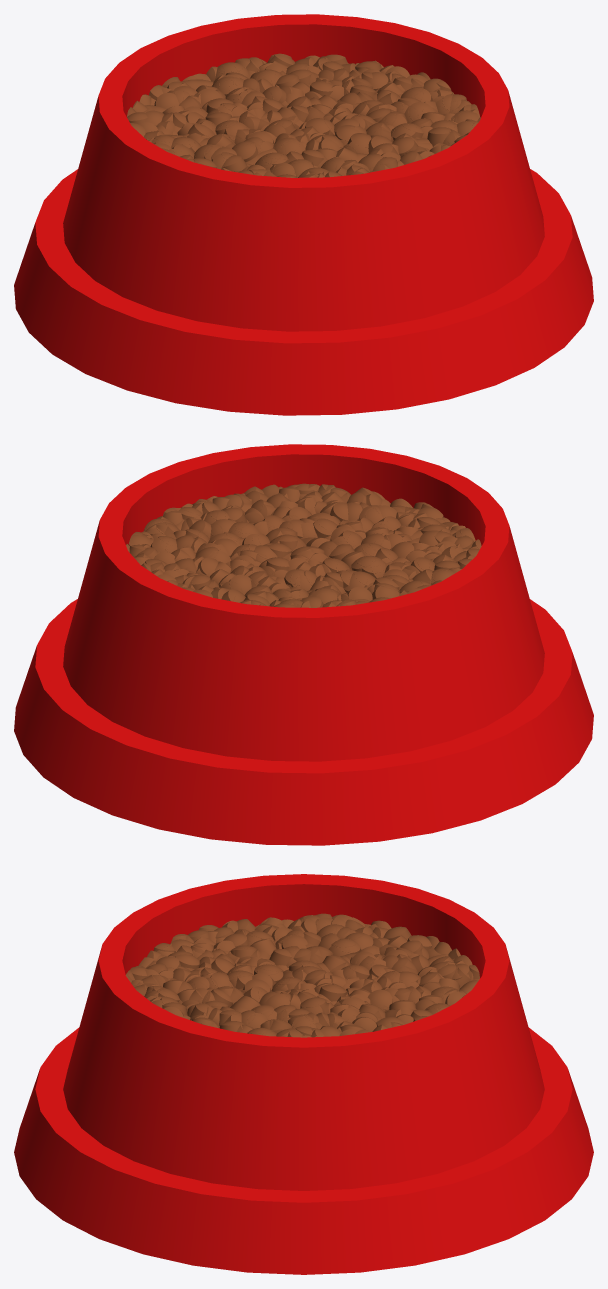
Rendered from cat eat ver1 in food1-1.fbx.
3 renders of one model, top to bottom at view 1: azimuth 30°, elevation 25°; view 2: azimuth 150°, elevation 25°; view 3: azimuth 270°, elevation 25°, orthographic.
Visible parts, largest first — view 1: 円; view 2: 円; view 3: 円.
Part boxes in pixels (<box>): 円: <box>14,14,593,415</box>; 円: <box>14,444,593,845</box>; 円: <box>14,874,593,1274</box>.
Size of the model in its own units: 200 by 72.87 by 200.
